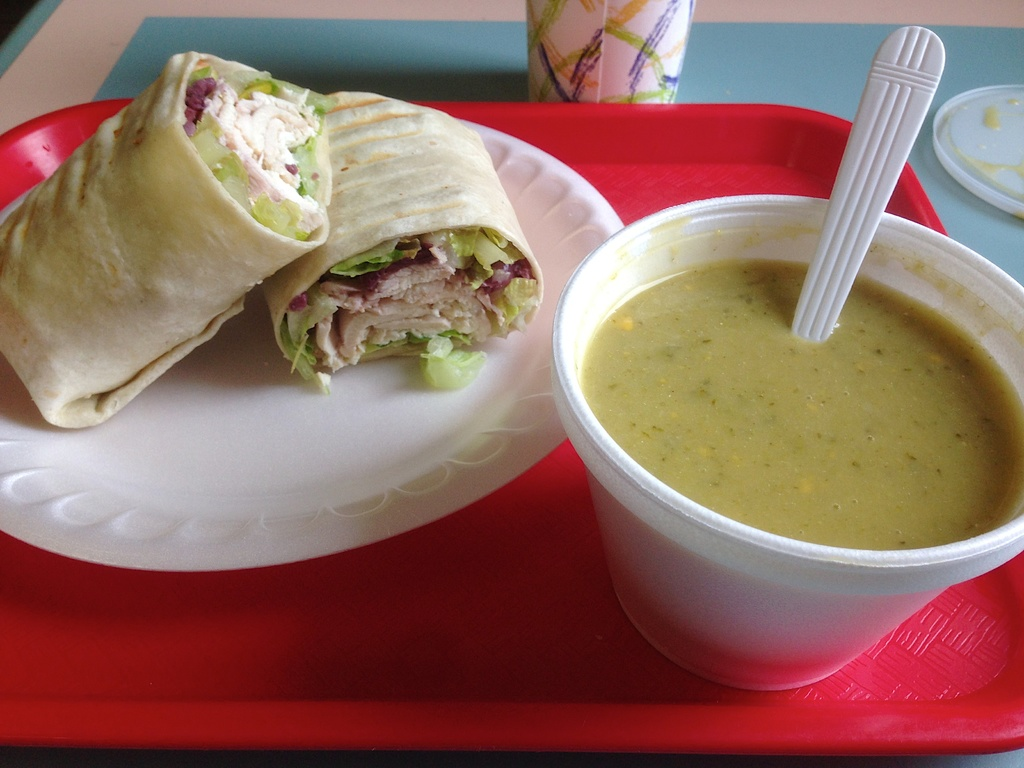sandwich: (0, 49, 341, 430), (262, 85, 538, 381)
